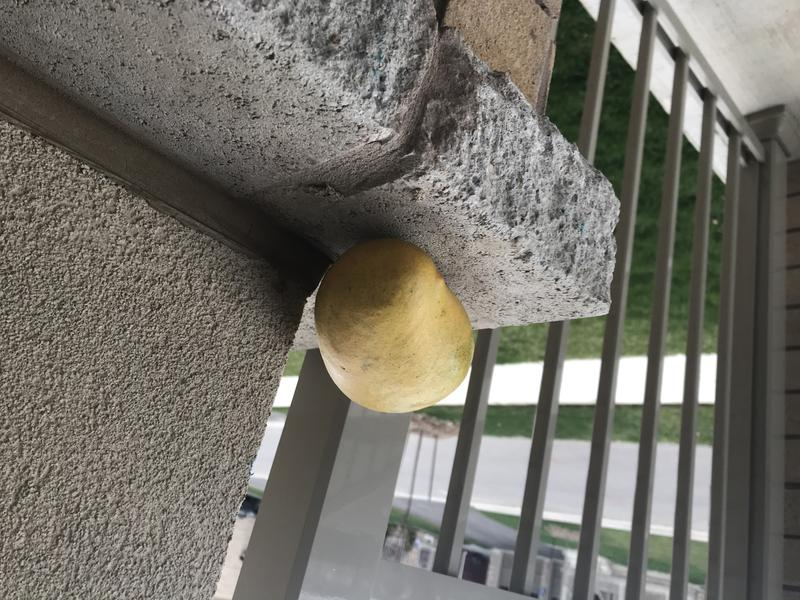w: (301, 233, 481, 420)
